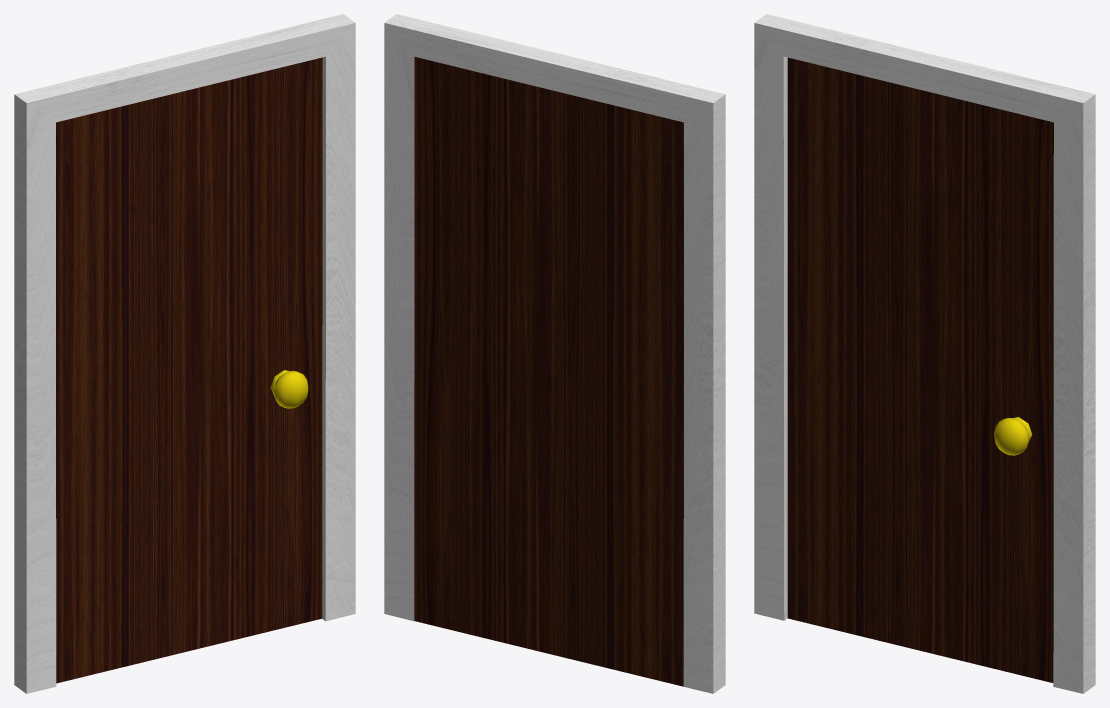
Rendered from door_frame_model.fbx.
3 renders of one model, left to right at view 1: azimuth 30°, elevation 25°; view 2: azimuth 150°, elevation 25°; view 3: azimuth 330°, elevation 25°, orthographic.
Parts seen in each view (by area): view 1: Cube, Cube.001; view 2: Cube, Cube.001; view 3: Cube, Cube.001.
Part boxes in pixels (x1,y1,x2,y2): Cube: (56,57,322,683); Cube.001: (14,14,355,693); Cube: (414,56,683,686); Cube.001: (384,14,725,693); Cube: (787,57,1053,682); Cube.001: (754,14,1095,693).
Size of the model in its own units: 122 by 210 by 14.81.
